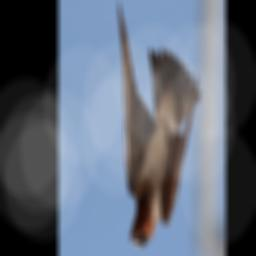Swallow: (118, 2, 200, 248)
